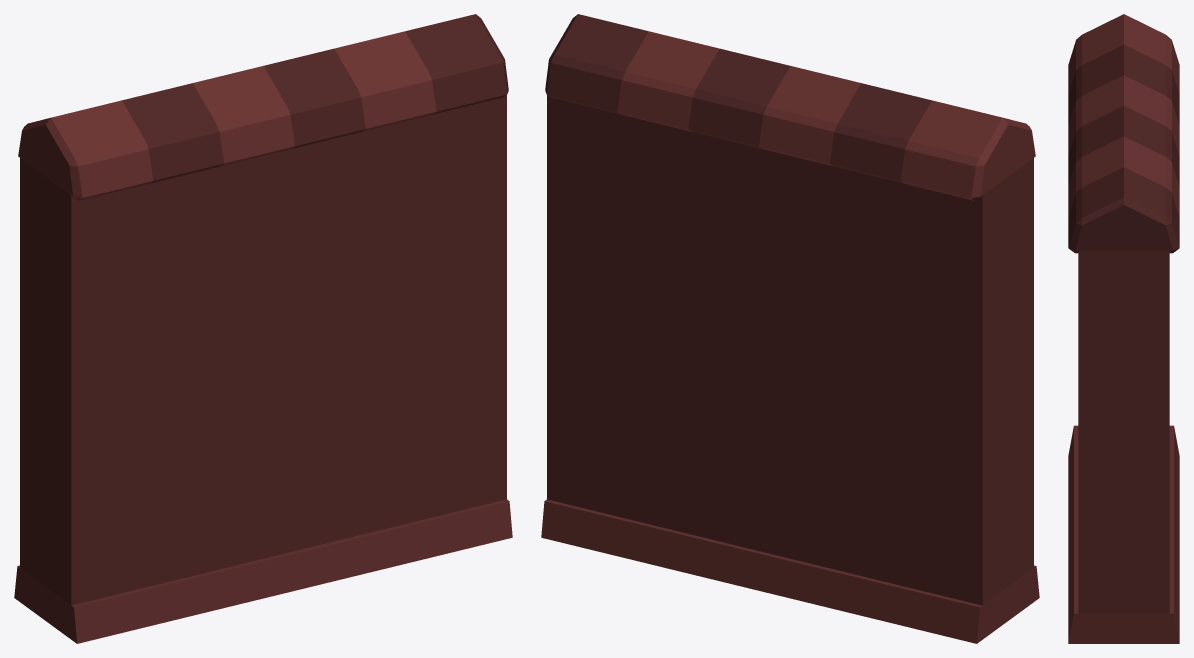
File: Wall_3_Red.fbx
3 views of the same model, side by side, from view 1: azimuth 30°, elevation 25°; view 2: azimuth 150°, elevation 25°; view 3: azimuth 270°, elevation 25° (orthographic). The views are drawn at different scales.
Parts seen in each view (by area): view 1: Wall_3_Red; view 2: Wall_3_Red; view 3: Wall_3_Red.
Boxes of the visible parts, x1,y1,x2,y2 form: Wall_3_Red: [14, 14, 512, 643]; Wall_3_Red: [541, 14, 1039, 643]; Wall_3_Red: [1068, 14, 1179, 643].
Size of the model in its own units: 400 by 441 by 100.
